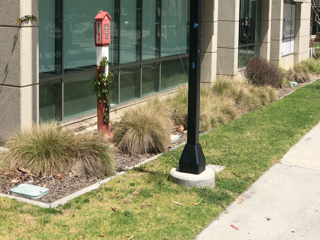Edge: (197, 106, 319, 237), (1, 184, 115, 210), (99, 145, 173, 185), (271, 73, 317, 104)
Obstacle: (175, 0, 213, 192), (88, 9, 114, 145)
